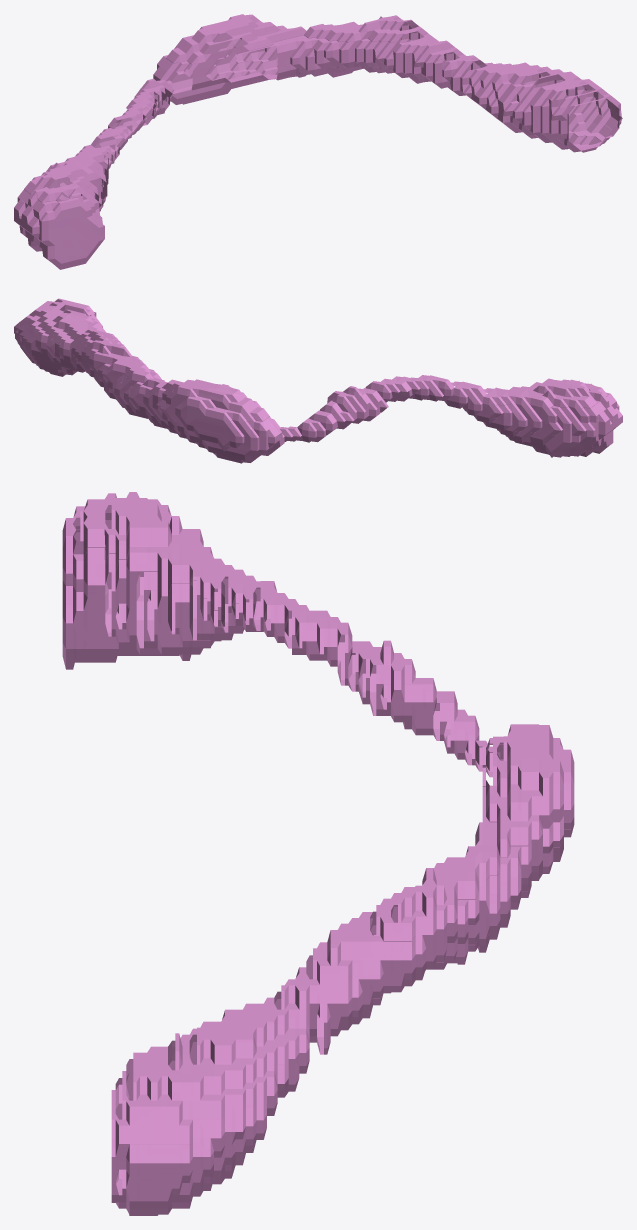
File: SVV_ADEL.gltf
3 views of the same model, one above another, from view 1: azimuth 30°, elevation 25°; view 2: azimuth 150°, elevation 25°; view 3: azimuth 270°, elevation 25° (orthographic). The views are drawn at different scales.
Visible parts, largest first — view 1: ADEL; view 2: ADEL; view 3: ADEL.
Part boxes in pixels (x1=…): ADEL: x1=14, y1=14, x2=622, y2=269; ADEL: x1=14, y1=298, x2=622, y2=463; ADEL: x1=62, y1=492, x2=574, y2=1215.
Size of the model in its own units: 48662 by 8701 by 18566.
